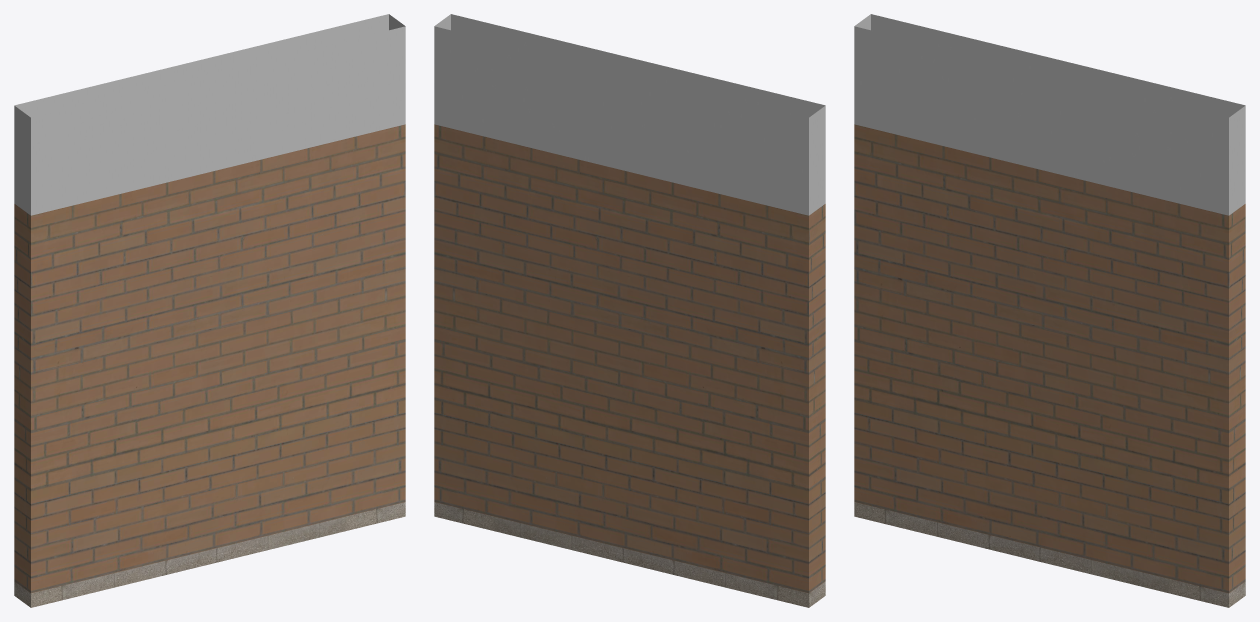
Rendered from Pared_Ladrillo_4x4.fbx.
3 renders of one model, left to right at view 1: azimuth 30°, elevation 25°; view 2: azimuth 150°, elevation 25°; view 3: azimuth 330°, elevation 25°, orthographic.
Visible parts, largest first — view 1: Pared_Ladrillos, Pared_Top; view 2: Pared_Ladrillos, Pared_Top; view 3: Pared_Ladrillos, Pared_Top.
Part boxes in pixels (x1=…): Pared_Ladrillos: x1=14, y1=124, x2=405, y2=607; Pared_Top: x1=14, y1=14, x2=405, y2=215; Pared_Ladrillos: x1=434, y1=124, x2=825, y2=607; Pared_Top: x1=434, y1=14, x2=825, y2=215; Pared_Ladrillos: x1=854, y1=124, x2=1245, y2=607; Pared_Top: x1=854, y1=14, x2=1245, y2=215.
Size of the model in its own units: 400 by 500 by 31.01.
